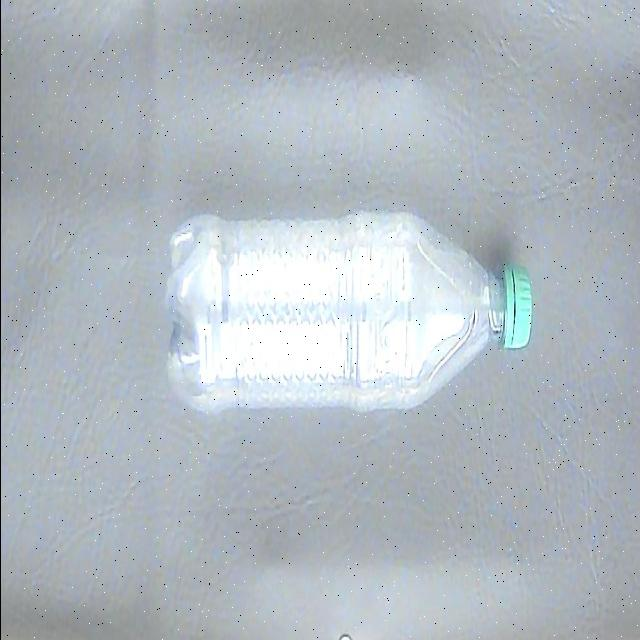plastic: (170, 174, 544, 430)
